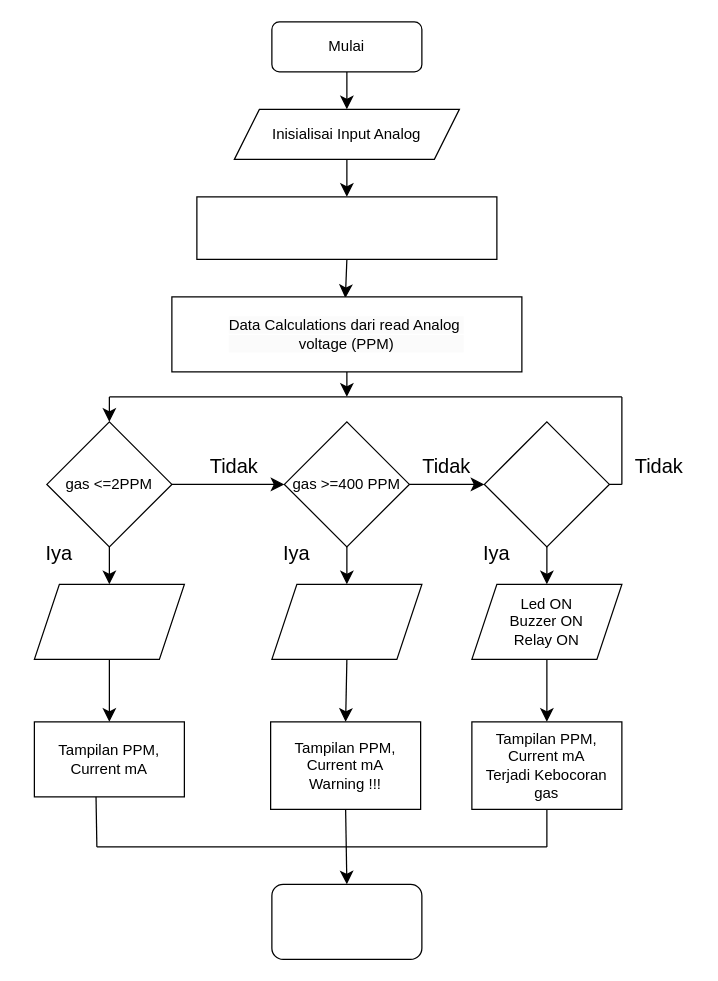
This 718x981 diagram has some shape labels left out. The centre of each missing label's shape, as x and y in pixels:
Baca Data Analog Curent 4-20mA to Voltage: (346,227)
gas >= 1000 PPM: (546,484)
Led ON Buzzer OFF Relay OFF: (108,621)
Led ON Buzzer ON Relay OFF: (346,621)
Selesai: (346,921)
